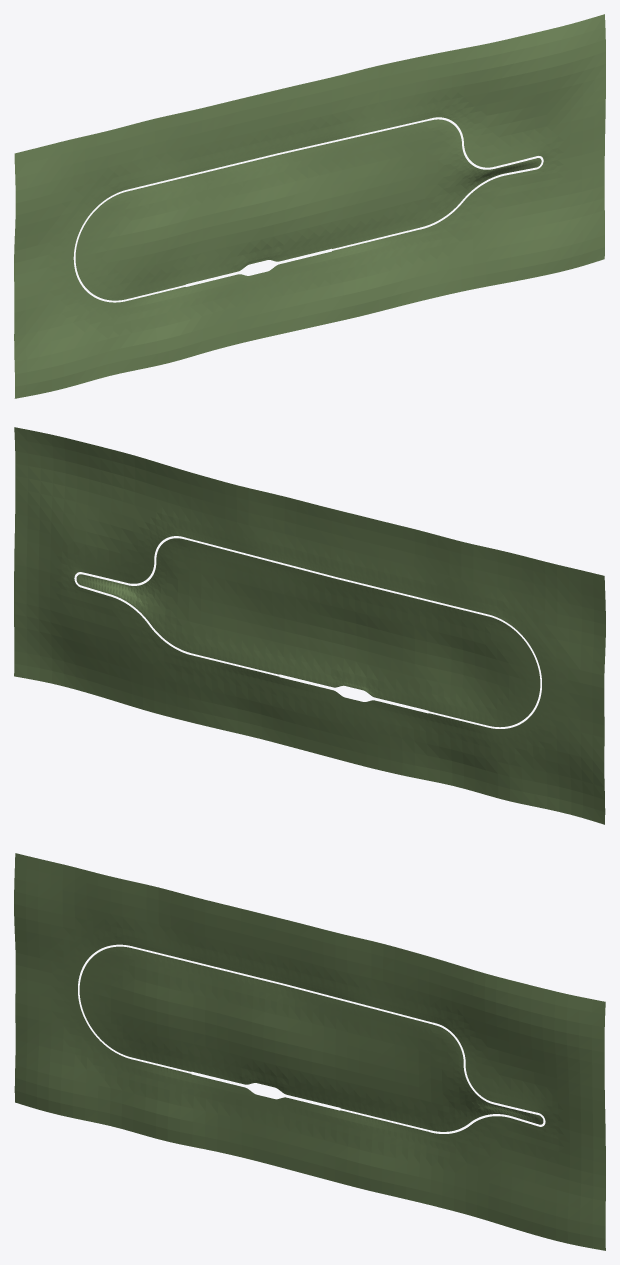
Rendered from FSpaceSensor_DetectOpenSpace_WithTOshapes.obj.
3 renders of one model, top to bottom at view 1: azimuth 30°, elevation 25°; view 2: azimuth 150°, elevation 25°; view 3: azimuth 330°, elevation 25°, orthographic.
Parts seen in each view (by area): view 1: Background; view 2: Background; view 3: Background.
Part boxes in pixels (<box>): Background: <box>14,14,605,398</box>; Background: <box>14,427,605,824</box>; Background: <box>14,853,605,1250</box>.
Bounding box in the file's own units: 2000 × 800 × 56.84.
